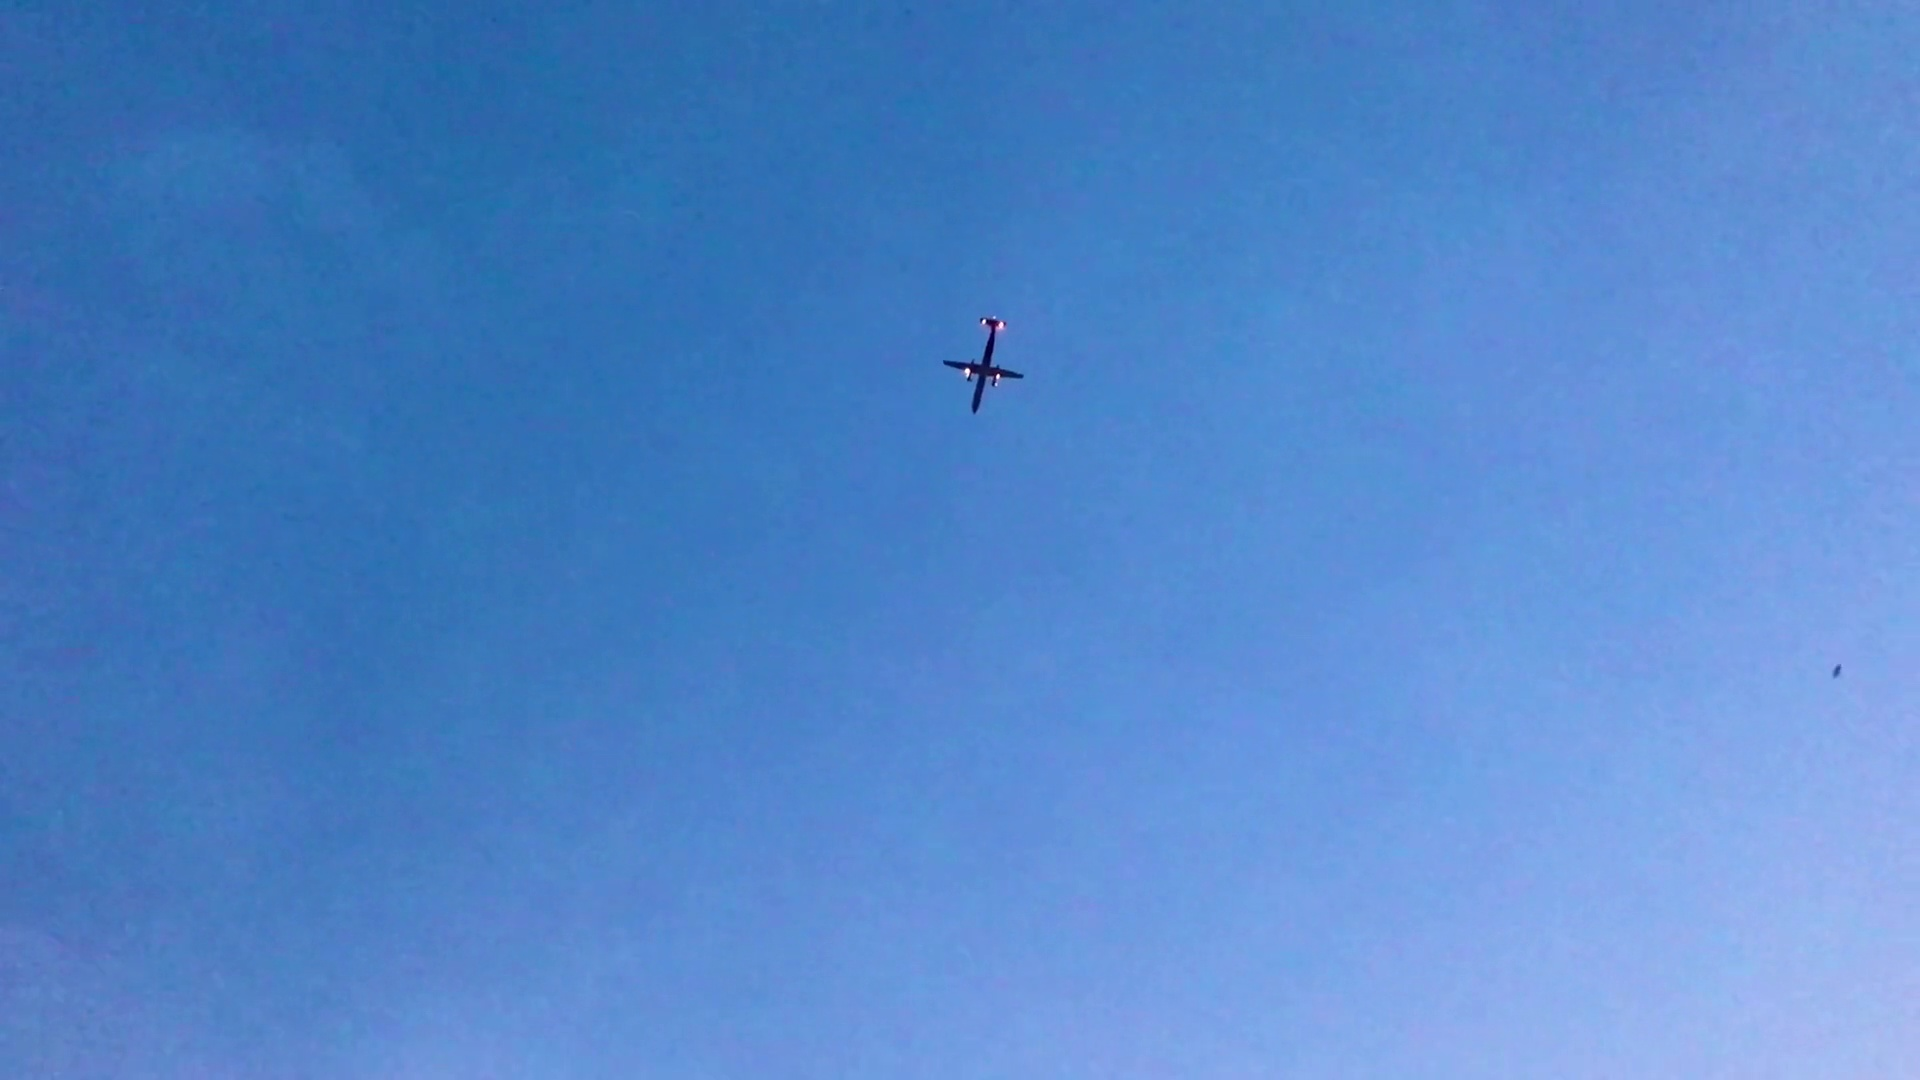plane: (942, 316, 1023, 417)
